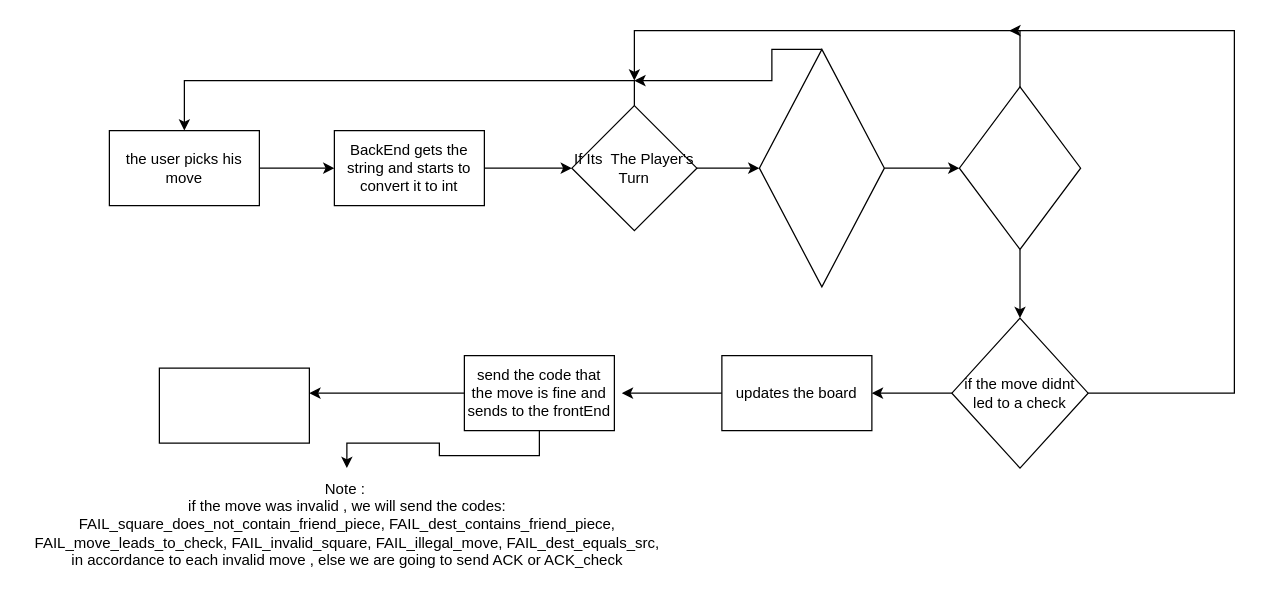
The diagram is 1266 pixels wide and 603 high, and some of its shapes have lost their labels. Here are the shapes that lost their labels. From the top down, the centre of each, then its label:
At point (821, 167): "if the dest and source square exsits on the board".
At point (1019, 167): "can Move? a function that is different for each piece".
At point (233, 405): "frontEnd updates the board".
